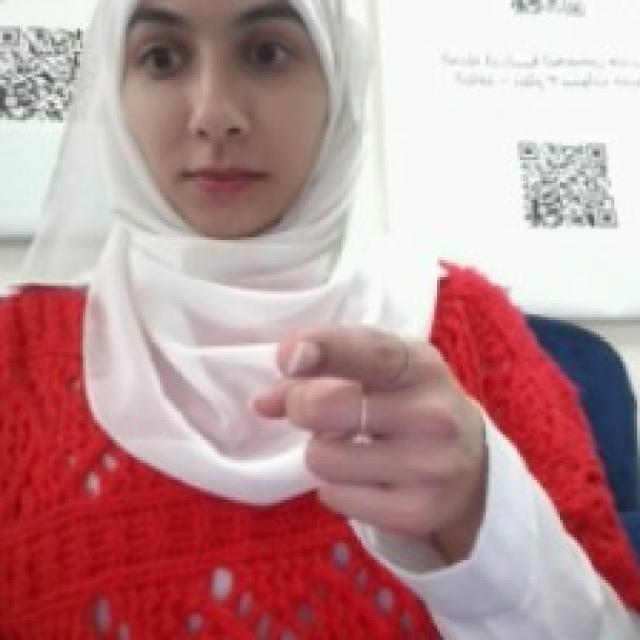you: (245, 308, 486, 543)
